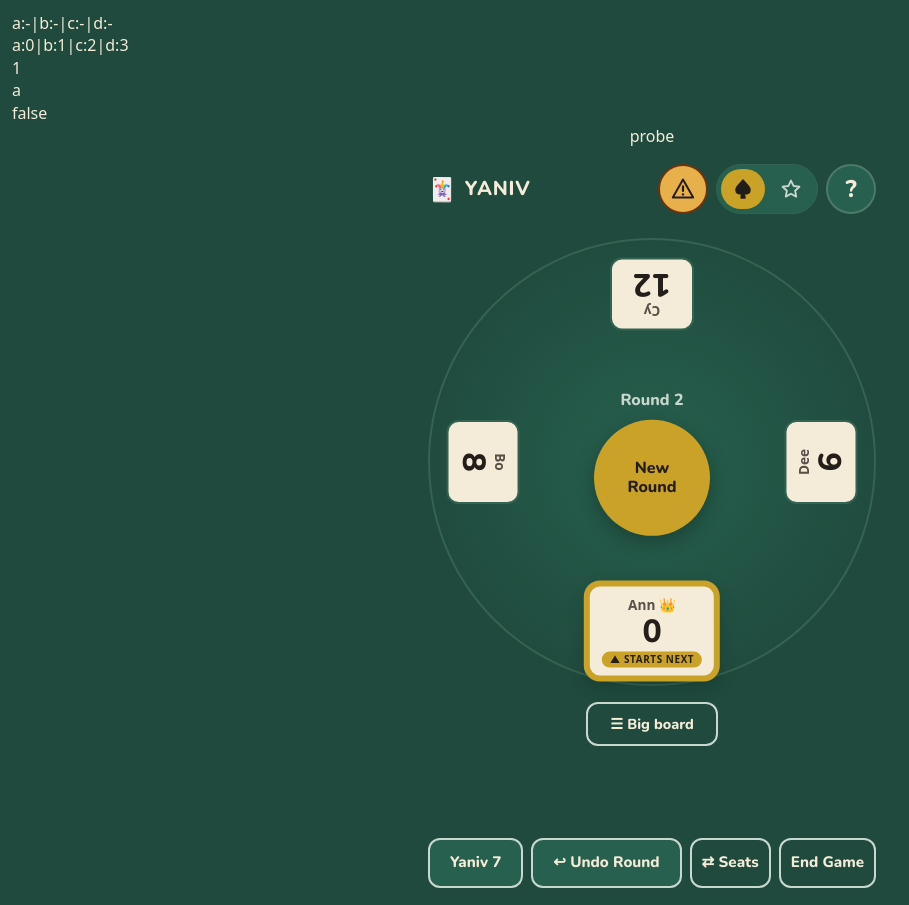
Test: the minus button on the Rearrange Seats row › offers one per row, beside the move controls
Click the button with aria-label "Rearrange seats" at (730, 863), box [690, 838, 771, 888]
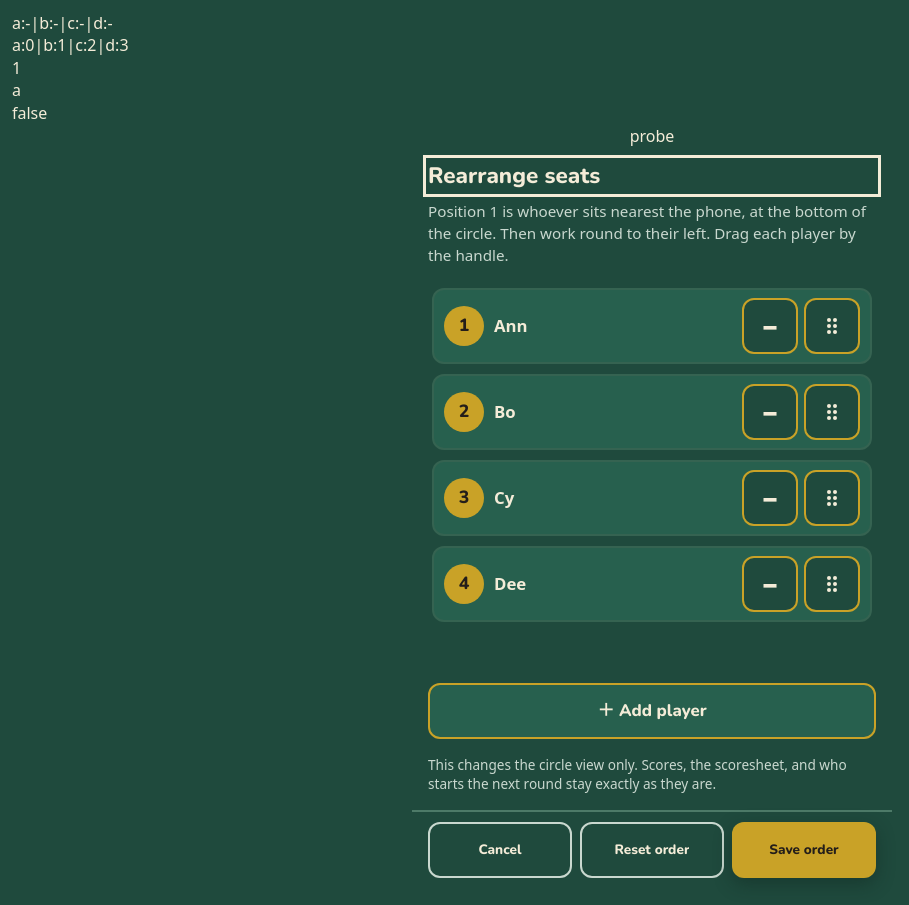
Now the button with test id "remove-a" is shown, box [742, 298, 798, 354]
Now the button with test id "remove-b" is shown, box [742, 384, 798, 440]
Now the button with test id "remove-c" is shown, box [742, 470, 798, 526]
